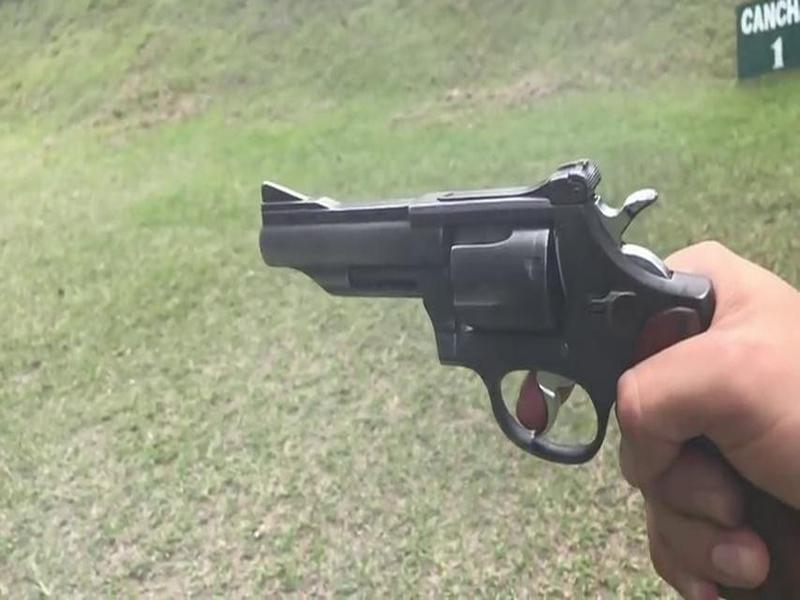Revolver: (241, 134, 747, 493)
